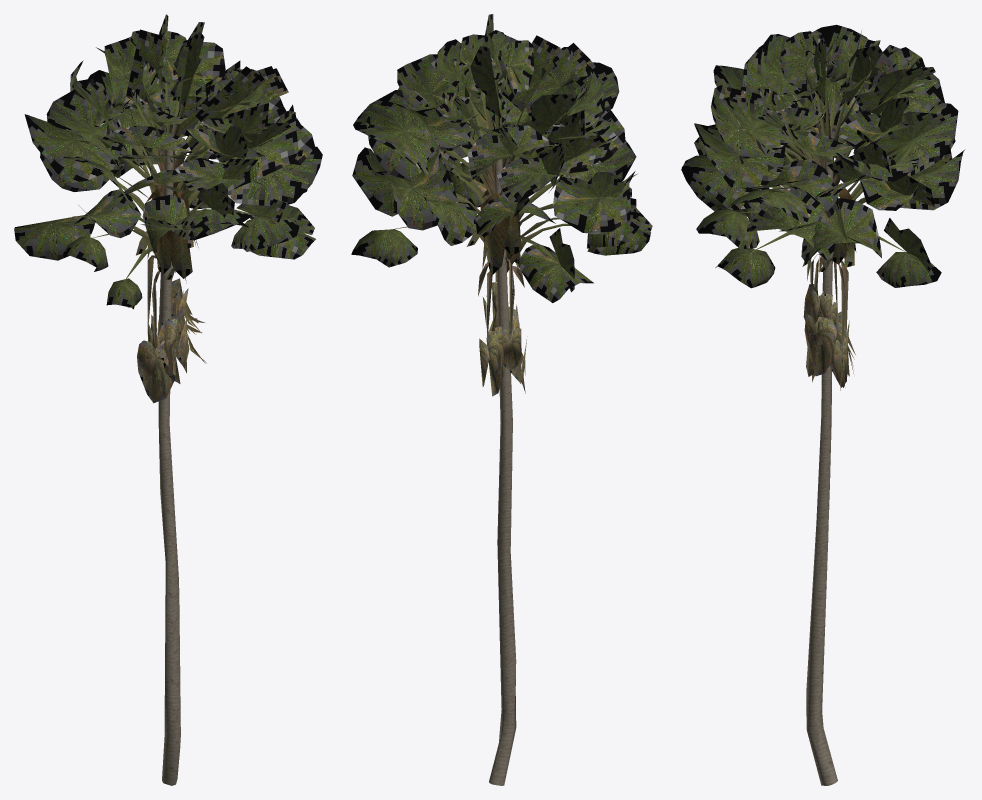
Rendered from jungle-mauritia-l-mid.glb.
3 renders of one model, left to right at view 1: azimuth 30°, elevation 25°; view 2: azimuth 150°, elevation 25°; view 3: azimuth 270°, elevation 25°, orthographic.
Parts seen in each view (by area): view 1: LOD1; view 2: LOD1; view 3: LOD1.
Boxes of the visible parts, x1,y1,x2,y2 form: LOD1: (14,14,322,785); LOD1: (351,14,652,785); LOD1: (681,24,964,785).
Bounding box in the file's own units: 12.75 × 35.86 × 12.24.
Materials: 2 (2 with a texture image).
